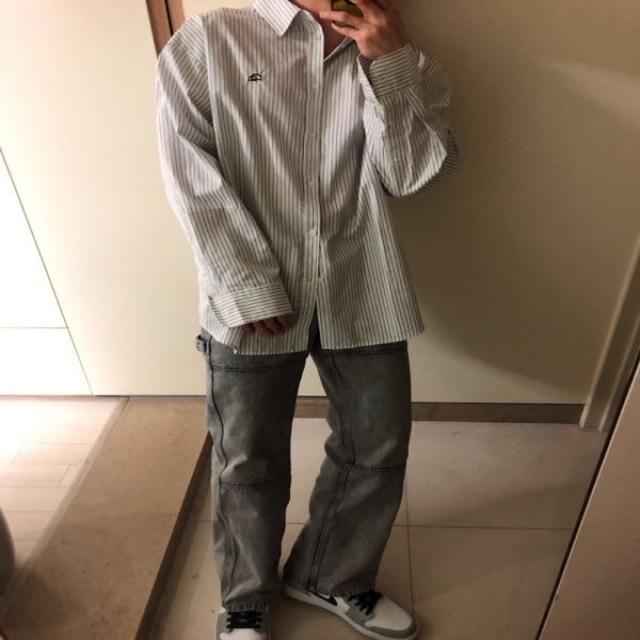denimpants: (194, 323, 414, 616)
shirt: (157, 0, 459, 354)
